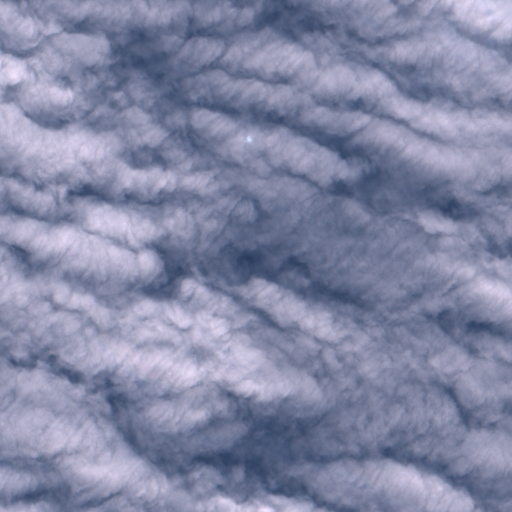Iceberg: (247, 136, 250, 141)
